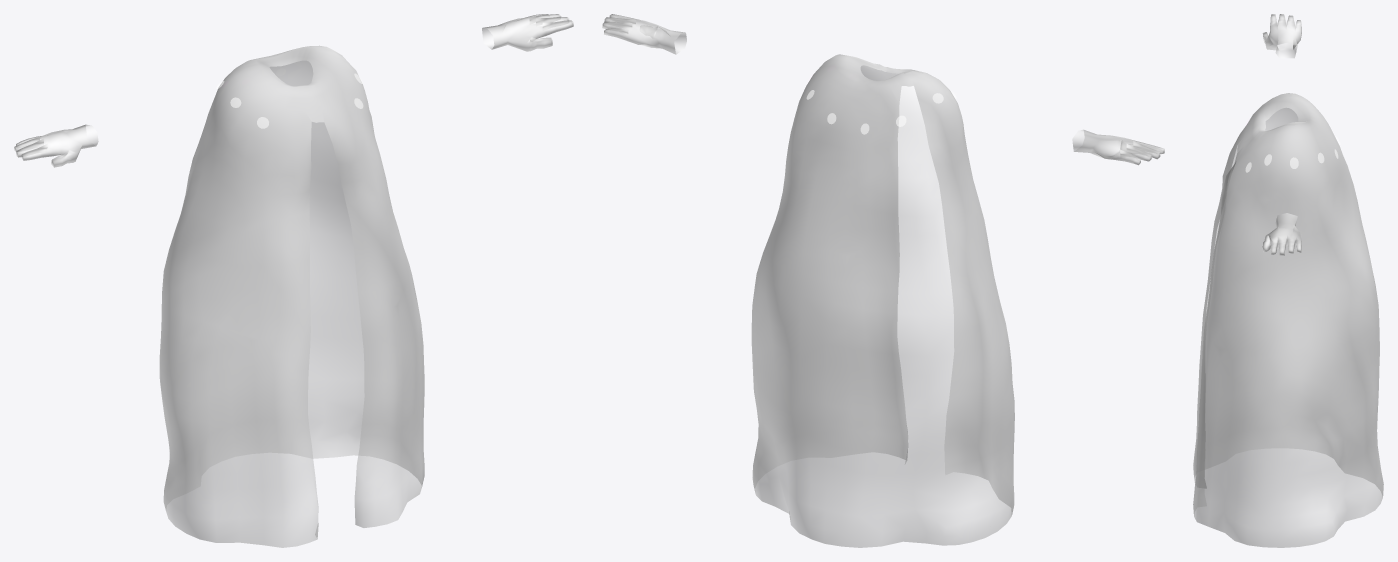
File: Reaper-White_Body.glb
The picture shows the model from 3 angles, left to right: view 1: azimuth 30°, elevation 25°; view 2: azimuth 150°, elevation 25°; view 3: azimuth 270°, elevation 25°; orthographic projection. The views are drawn at different scales.
Parts seen in each view (by area): view 1: Reaper-White-Body; view 2: Reaper-White-Body; view 3: Reaper-White-Body.
Part boxes in pixels (x1,y1,x2,y2): Reaper-White-Body: [14, 14, 573, 547]; Reaper-White-Body: [602, 14, 1164, 547]; Reaper-White-Body: [1193, 14, 1383, 547].
Size of what is drawn, in the model's own units: 1.83 by 1.4 by 0.623.
Materials: 1 (1 with a texture image).
